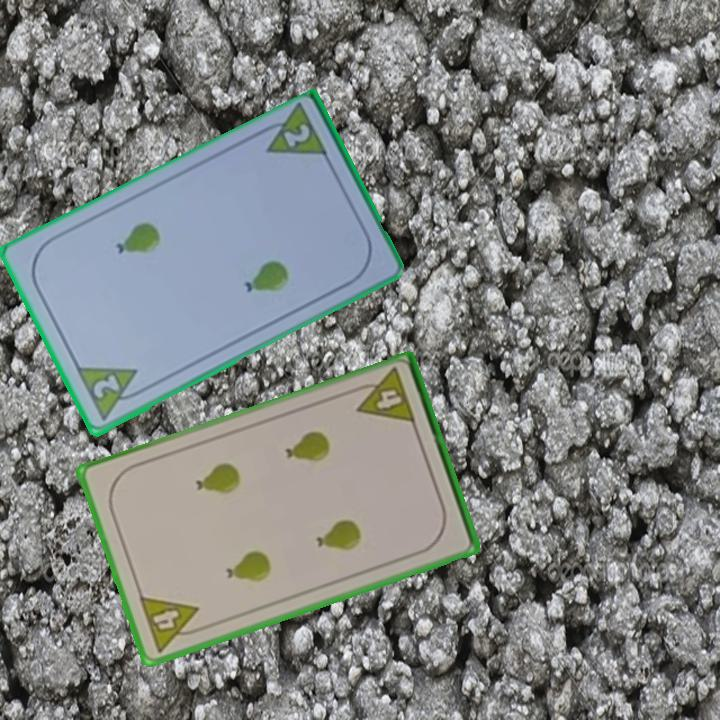2p: (88, 371, 123, 402), (279, 120, 313, 151)
4p: (135, 592, 208, 655), (348, 364, 419, 427)
